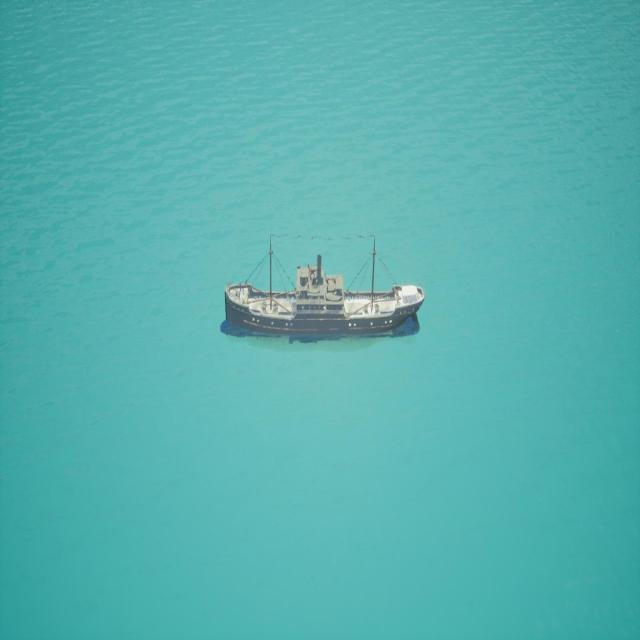fishing ship: (225, 234, 424, 339)
